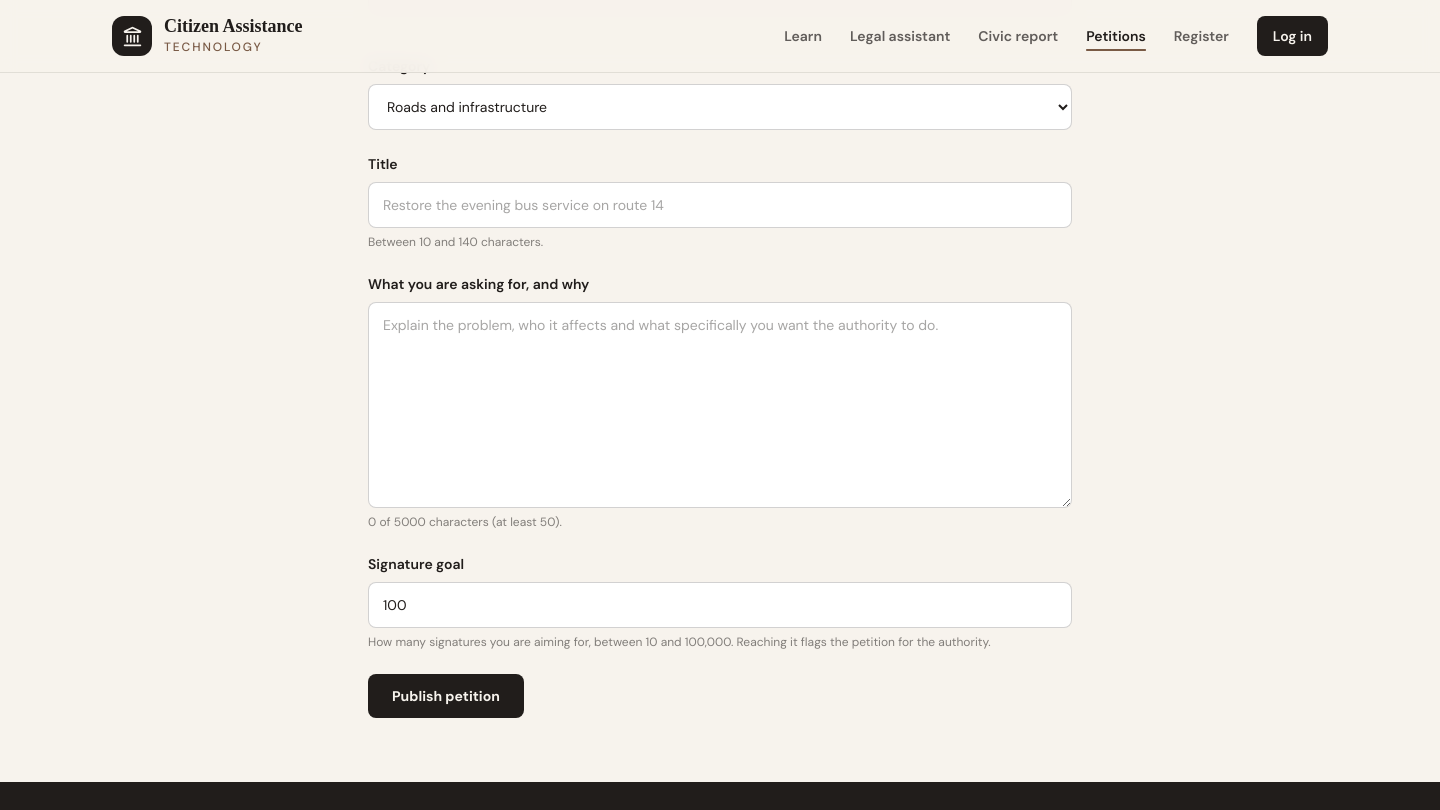
Test: CreatePetitionPage › counts the description length as it is typed
The width and height of the screenshot is (1440, 810).
(page scrolled)
Step 1. Replace the text in the text box labelled "What you are asking for" with "abcdef" → [720, 405], box x1=368 y1=302 x2=1072 y2=508
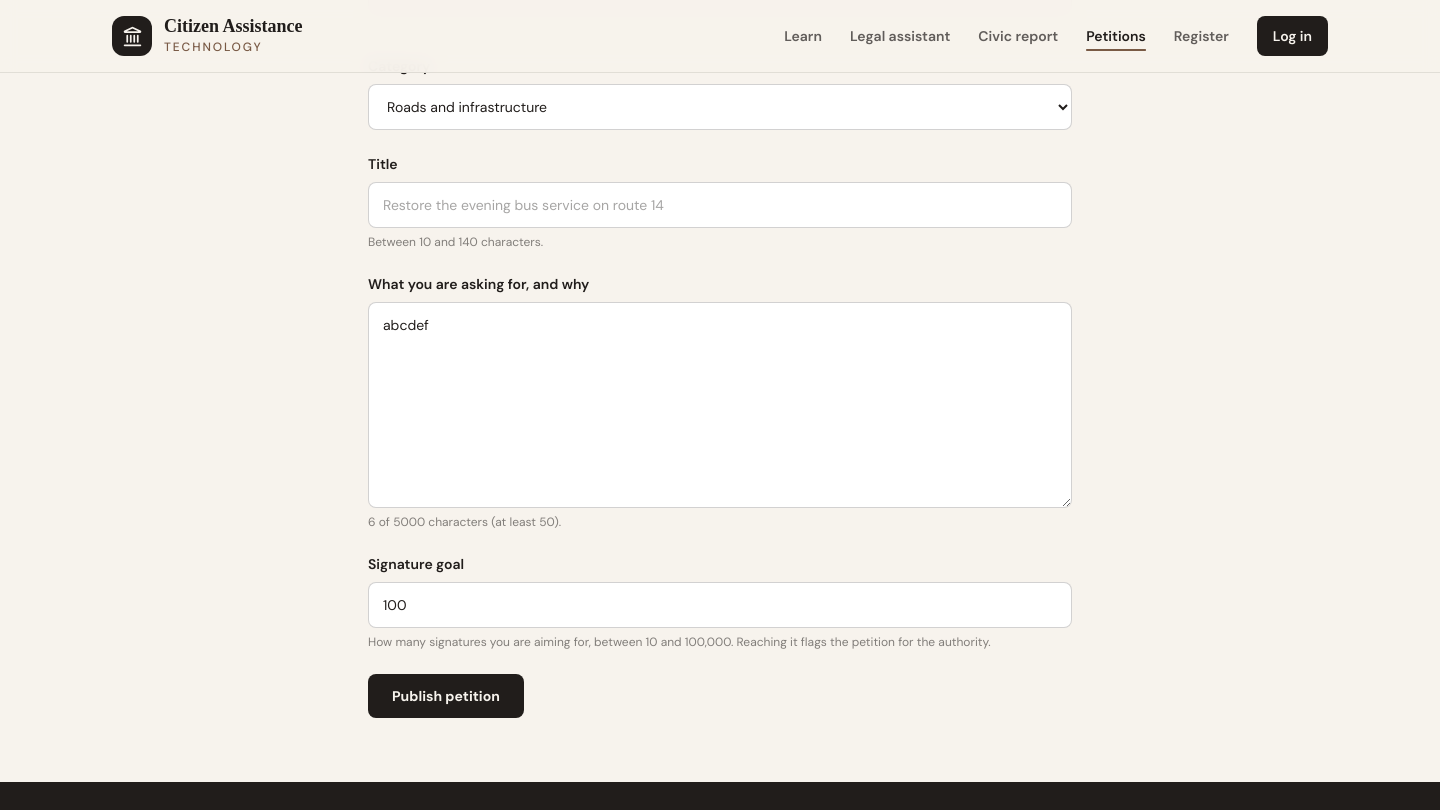
Check: the text "6 of 5000 characters (at least 50)." is shown, box x1=368 y1=514 x2=561 y2=530
